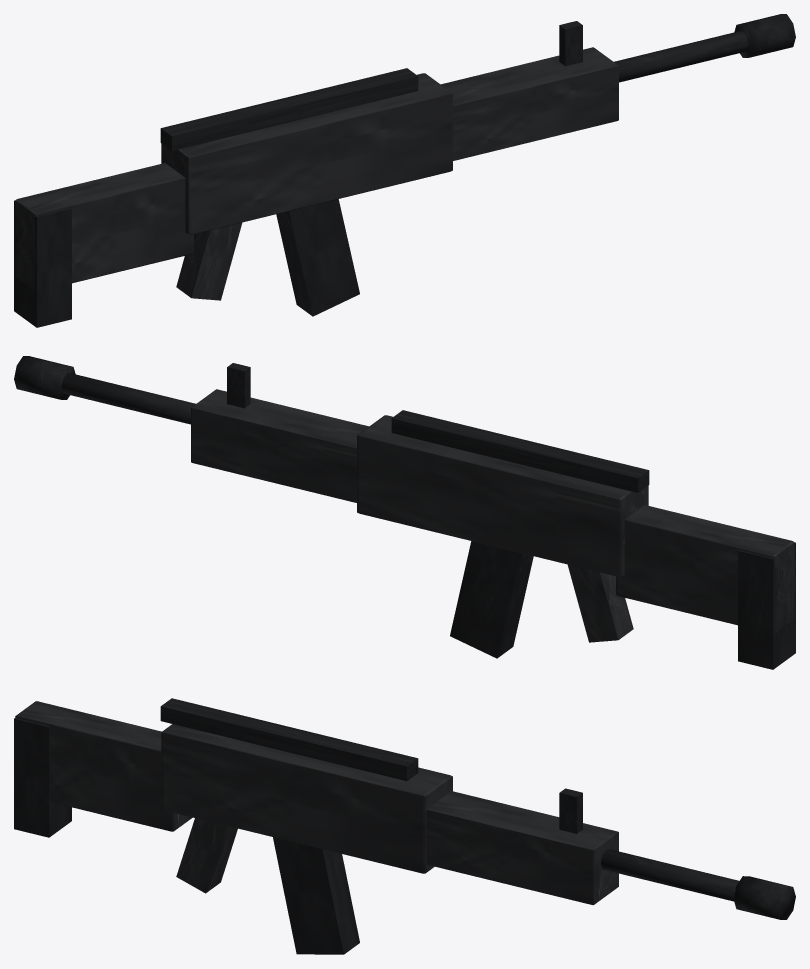
The model's file is gun_vg_rifle.glb.
3 views of the same model, one above another, from view 1: azimuth 30°, elevation 25°; view 2: azimuth 150°, elevation 25°; view 3: azimuth 330°, elevation 25° (orthographic).
Parts seen in each view (by area): view 1: gun_vg_rifle; view 2: gun_vg_rifle; view 3: gun_vg_rifle.
Part boxes in pixels (box(x1,y1,x2,y2)): gun_vg_rifle: box(14, 14, 795, 327); gun_vg_rifle: box(14, 356, 795, 669); gun_vg_rifle: box(14, 698, 795, 954).
Size of the model in its own units: 0.865 by 0.2394 by 0.055.
Materials: 2 (2 with a texture image).
